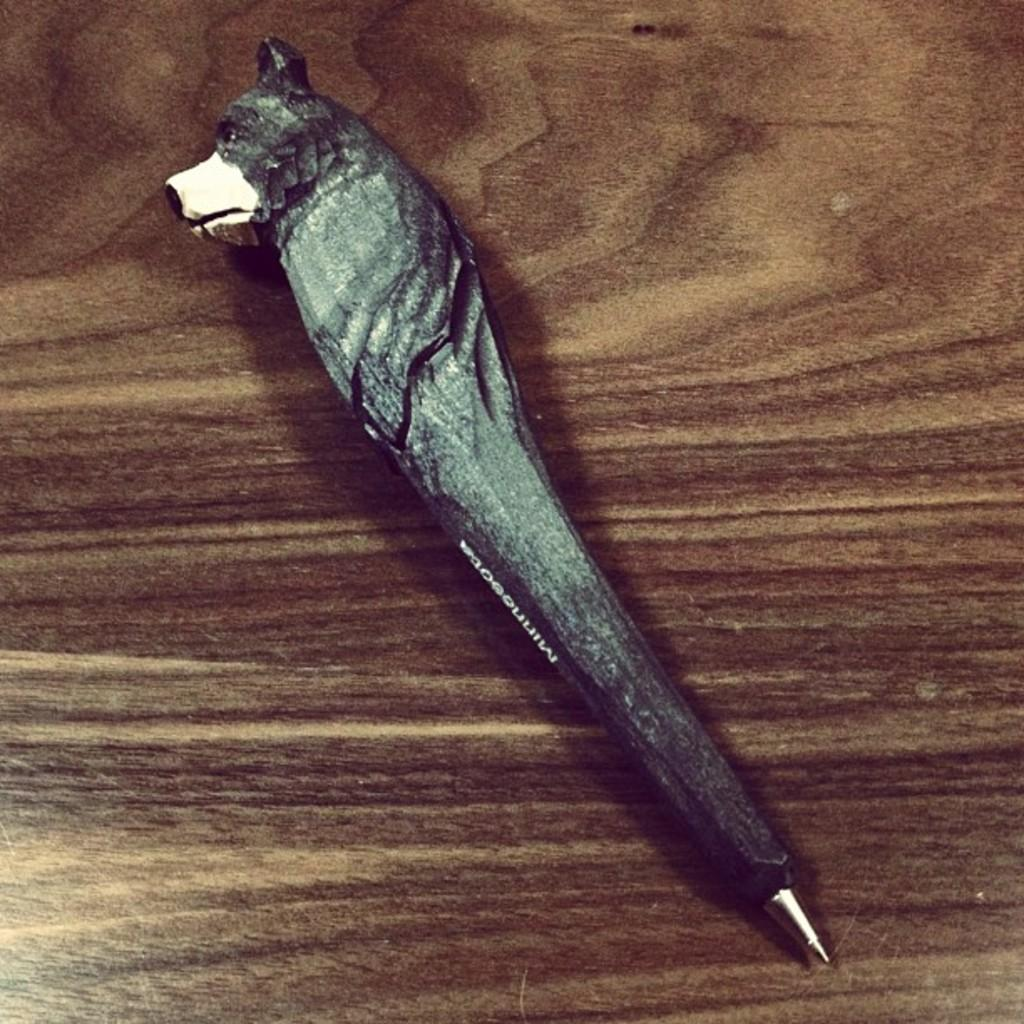pen: (161, 33, 825, 977)
